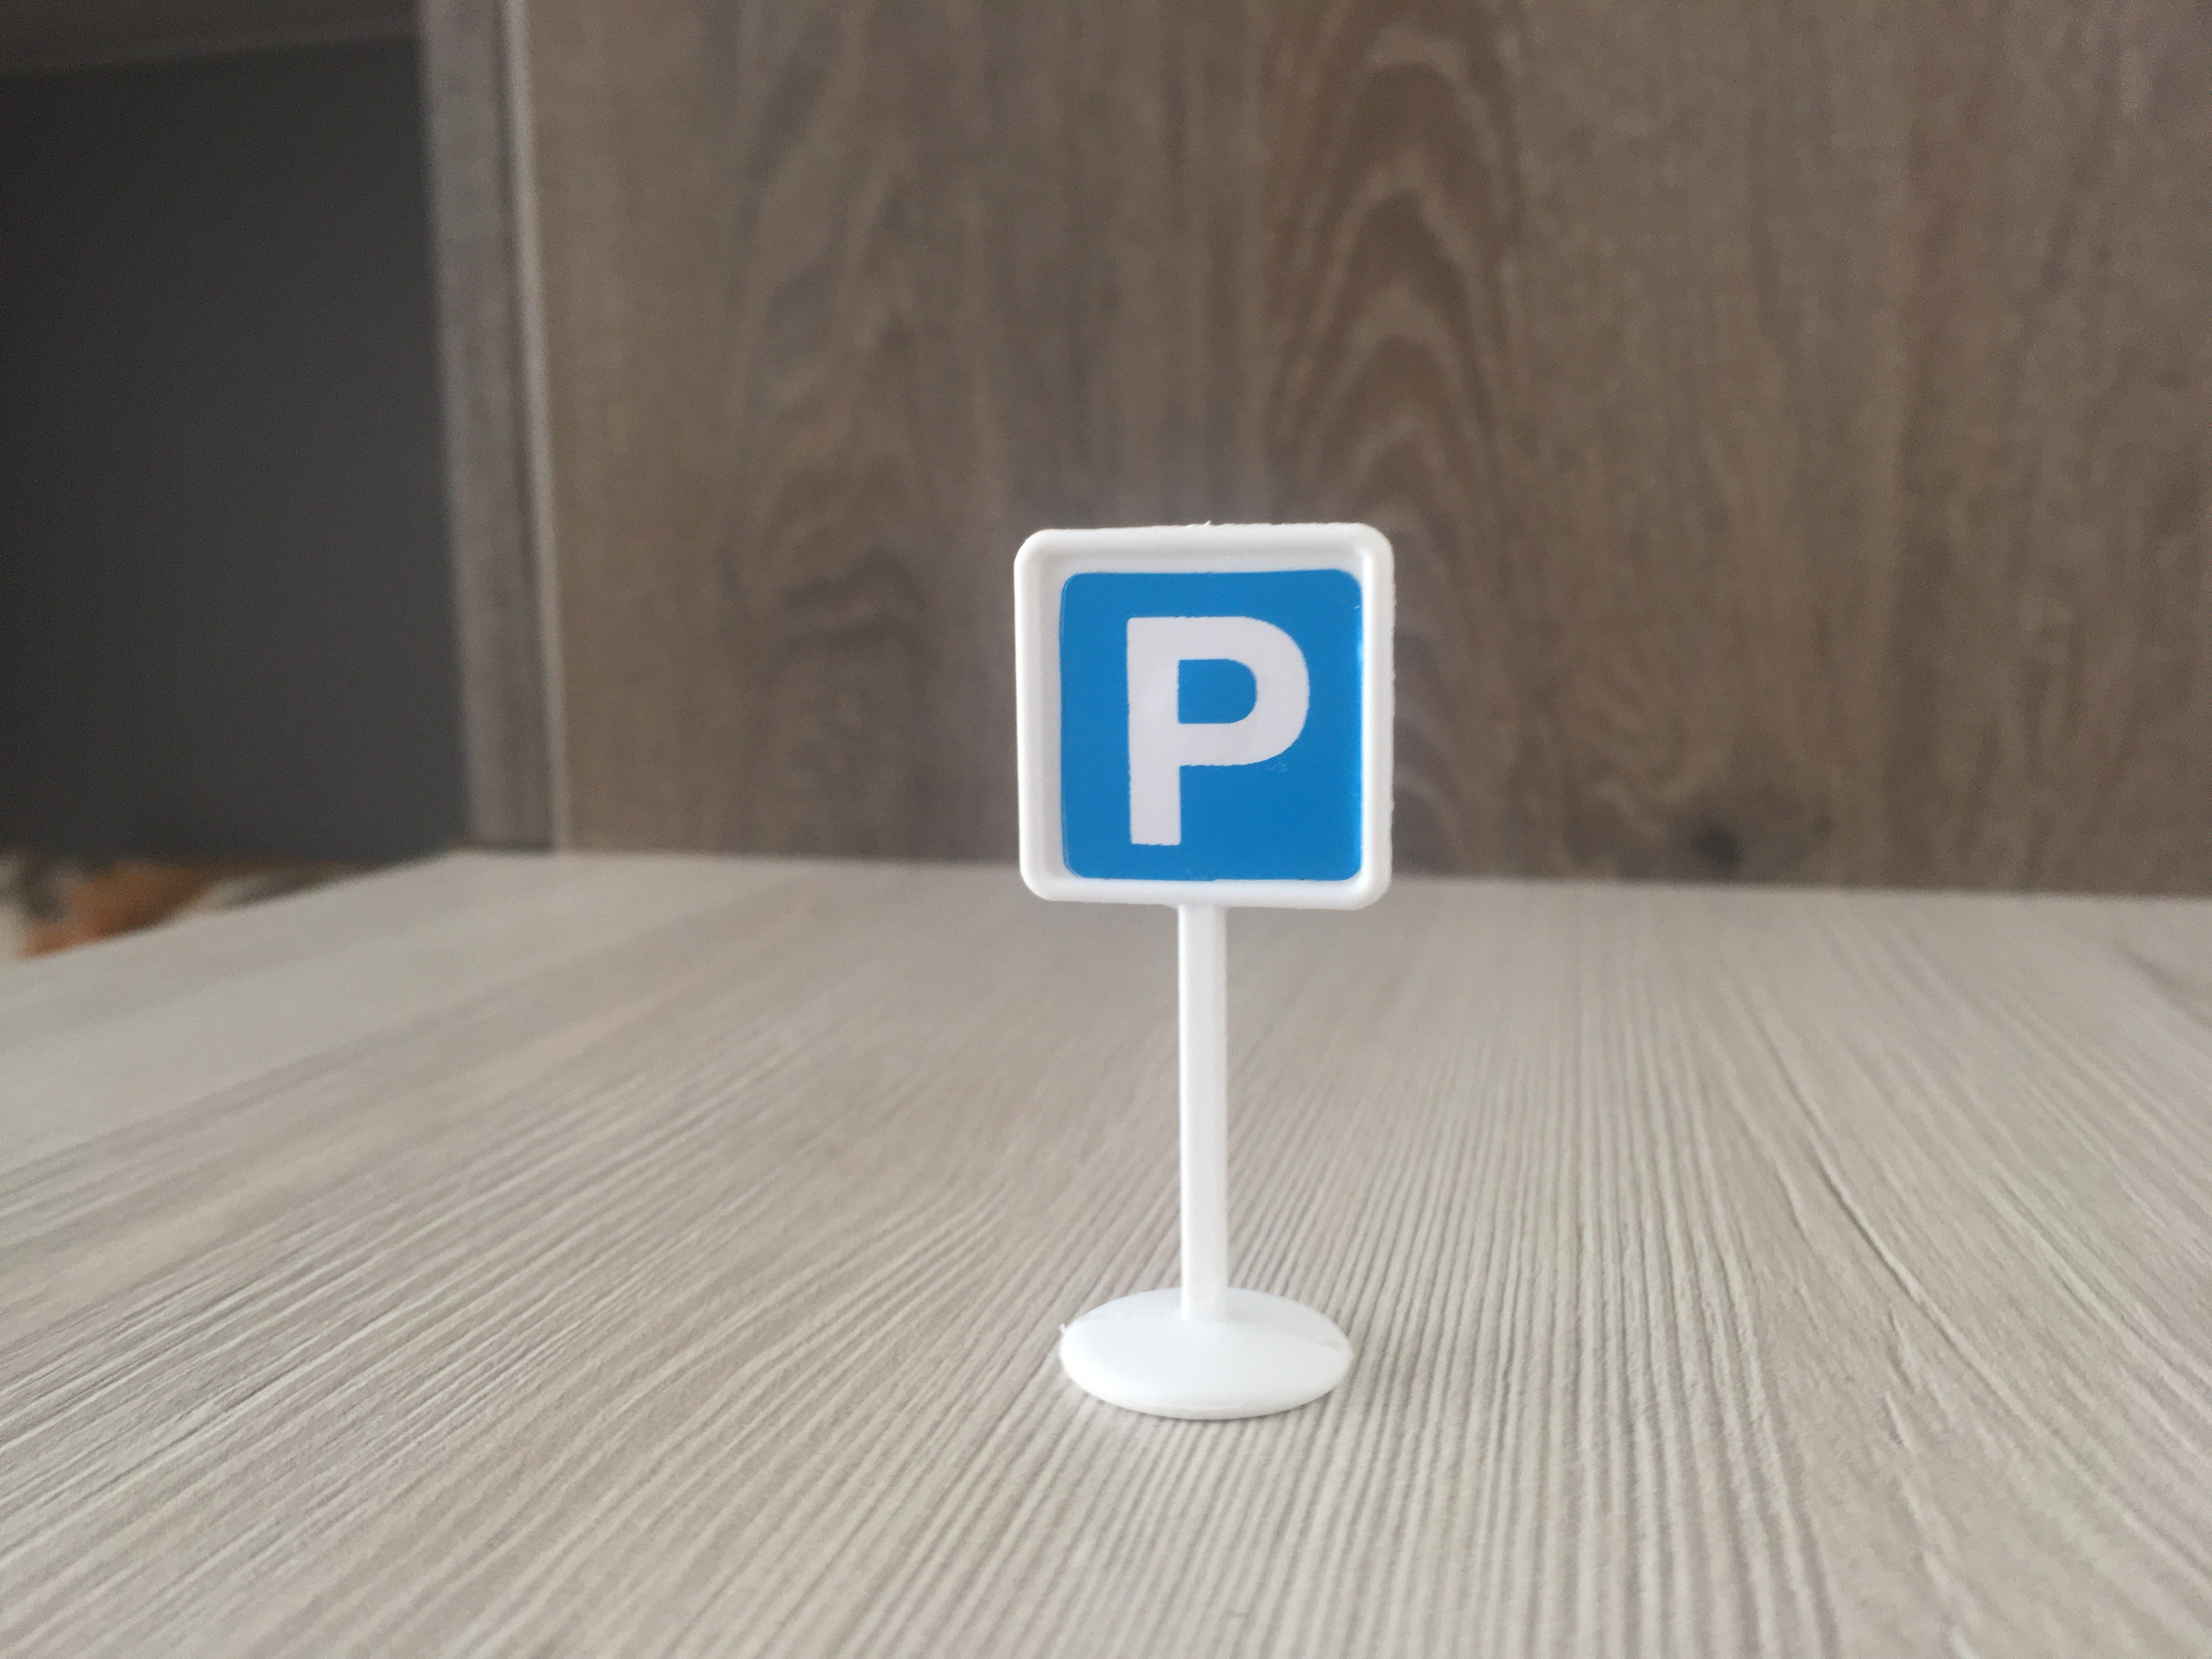parking: (1012, 533, 1397, 913)
